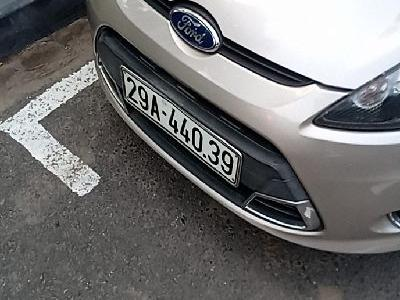car: (120, 67, 242, 191)
